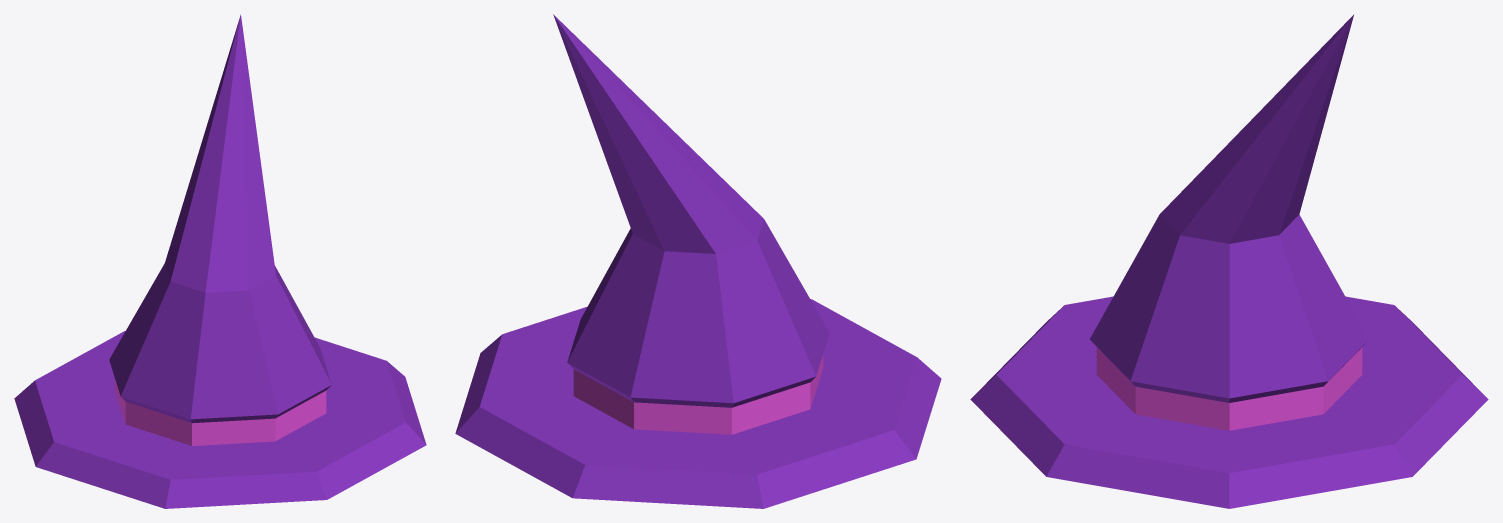
File: ac_magichat.fbx
3 views of the same model, side by side, from view 1: azimuth 30°, elevation 25°; view 2: azimuth 150°, elevation 25°; view 3: azimuth 270°, elevation 25° (orthographic). The views are drawn at different scales.
Parts seen in each view (by area): view 1: hat; view 2: hat; view 3: hat.
Boxes of the visible parts, left/top/right/bottom form: hat: left=14, top=14, right=426, bottom=508; hat: left=455, top=14, right=941, bottom=508; hat: left=970, top=15, right=1488, bottom=508.
Size of the model in its own units: 200 by 182 by 200.
